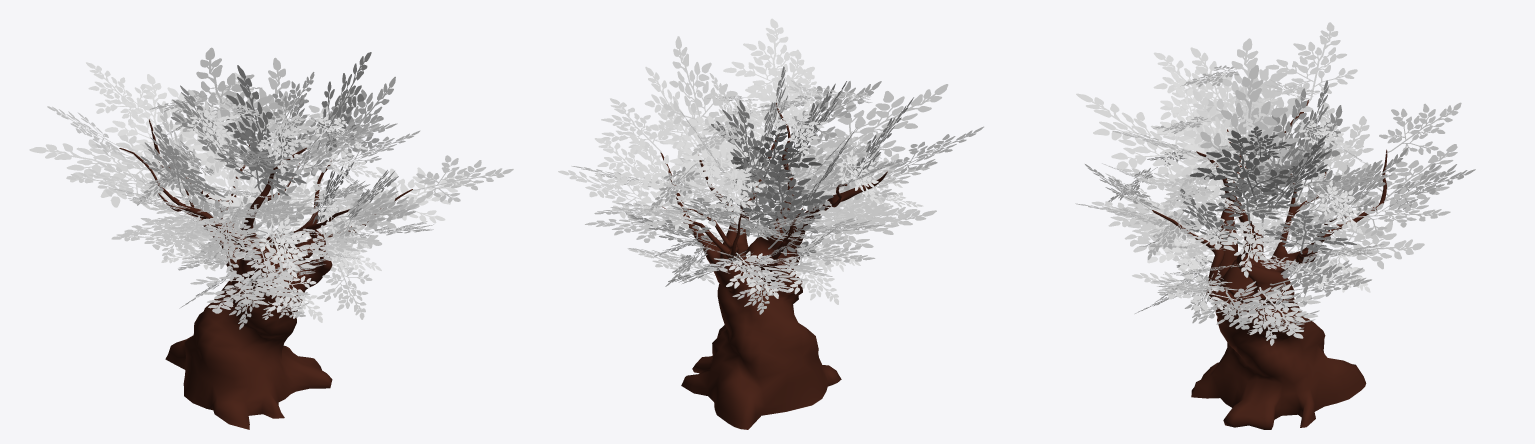
The model's file is ArvoreVerdeDaniel.fbx.
3 renders of one model, left to right at view 1: azimuth 30°, elevation 25°; view 2: azimuth 150°, elevation 25°; view 3: azimuth 270°, elevation 25°, orthographic. The views are drawn at different scales.
Parts seen in each view (by area): view 1: Arvore.001, Folha.228, Folha.249, Folha.252, Folha.227, Folha.233, Folha.205, Folha.230, Folha.250, Folha.203, Folha.246, Folha.236 (+55 smaller); view 2: Arvore.001, Folha.261, Folha.208, Folha.250, Folha.229, Folha.210, Folha.228, Folha.244, Folha.209, Folha.224, Folha.248, Folha.206 (+45 smaller); view 3: Arvore.001, Folha.261, Folha.252, Folha.201, Folha.251, Folha.250, Folha.235, Folha.228, Folha.246, Folha.203, Folha.212, Folha.204 (+46 smaller).
Boxes of the visible parts, x1=… form: Arvore.001: x1=119, y1=119, x2=412, y2=429; Folha.228: x1=29, y1=134, x2=164, y2=207; Folha.249: x1=171, y1=47, x2=284, y2=143; Folha.252: x1=223, y1=65, x2=291, y2=183; Folha.227: x1=104, y1=74, x2=196, y2=158; Folha.233: x1=190, y1=271, x2=310, y2=313; Folha.205: x1=412, y1=155, x2=513, y2=202; Folha.230: x1=369, y1=167, x2=465, y2=223; Folha.250: x1=317, y1=52, x2=371, y2=159; Folha.203: x1=86, y1=62, x2=152, y2=125; Folha.246: x1=217, y1=130, x2=306, y2=195; Folha.236: x1=192, y1=119, x2=264, y2=219; Arvore.001: x1=660, y1=103, x2=887, y2=429; Folha.261: x1=807, y1=84, x2=948, y2=162; Folha.208: x1=723, y1=18, x2=814, y2=104; Folha.250: x1=663, y1=36, x2=737, y2=147; Folha.229: x1=742, y1=163, x2=833, y2=233; Folha.210: x1=629, y1=133, x2=697, y2=230; Folha.228: x1=703, y1=255, x2=816, y2=292; Folha.244: x1=663, y1=112, x2=738, y2=184; Folha.209: x1=644, y1=66, x2=701, y2=158; Folha.224: x1=686, y1=106, x2=779, y2=190; Folha.248: x1=732, y1=124, x2=821, y2=182; Folha.206: x1=558, y1=170, x2=663, y2=218; Arvore.001: x1=1152, y1=100, x2=1387, y2=429; Folha.261: x1=1076, y1=93, x2=1197, y2=184; Folha.252: x1=1200, y1=65, x2=1307, y2=190; Folha.201: x1=1265, y1=22, x2=1357, y2=103; Folha.251: x1=1202, y1=38, x2=1313, y2=142; Folha.250: x1=1190, y1=130, x2=1289, y2=203; Folha.235: x1=1317, y1=204, x2=1424, y2=282; Folha.228: x1=1345, y1=144, x2=1457, y2=206; Folha.246: x1=1181, y1=90, x2=1253, y2=197; Folha.203: x1=1379, y1=102, x2=1461, y2=155; Folha.212: x1=1157, y1=70, x2=1230, y2=161; Folha.204: x1=1348, y1=187, x2=1450, y2=236.
Size of the model in its own units: 957 by 734 by 936.
